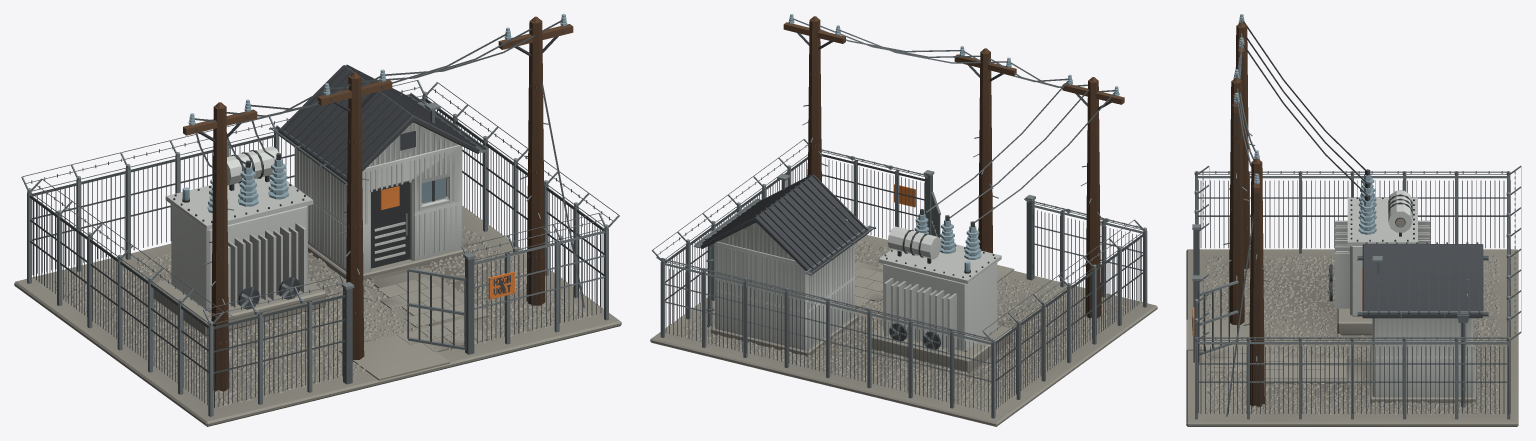
The model's file is village-substation-near.glb.
3 renders of one model, left to right at view 1: azimuth 30°, elevation 25°; view 2: azimuth 150°, elevation 25°; view 3: azimuth 270°, elevation 25°, orthographic. The views are drawn at different scales.
Parts seen in each view (by area): view 1: SubstationNear; view 2: SubstationNear; view 3: SubstationNear.
Boxes of the visible parts, x1,y1,x2,y2 form: SubstationNear: (14,14,621,426); SubstationNear: (650,14,1157,426); SubstationNear: (1186,14,1521,426).
Size of the model in its own units: 8.26 by 5.47 by 6.66.
